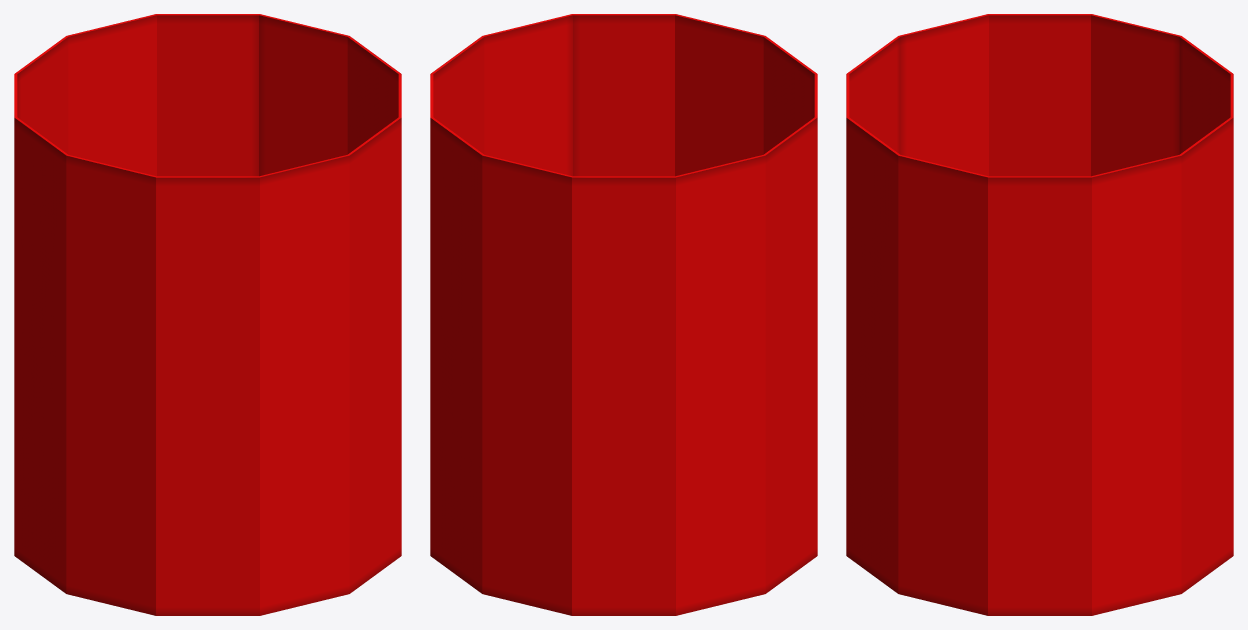
File: Barrior.fbx
3 views of the same model, side by side, from view 1: azimuth 30°, elevation 25°; view 2: azimuth 150°, elevation 25°; view 3: azimuth 270°, elevation 25° (orthographic).
Visible parts, largest first — view 1: tube; view 2: tube; view 3: tube.
Boxes of the visible parts, <box> form: tube: <box>14,14,401,615</box>; tube: <box>430,14,817,615</box>; tube: <box>846,14,1233,615</box>.
Bounding box in the file's own units: 125 × 156 × 125.
Materials: 1 (1 with a texture image).
